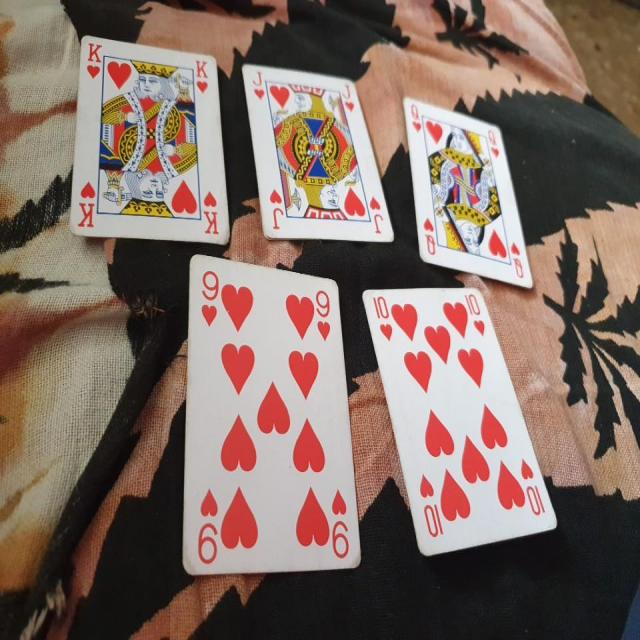10 Hearts: (358, 280, 558, 554)
9 Hearts: (176, 250, 366, 572)
J Hearts: (237, 56, 396, 247)
K Hearts: (60, 36, 232, 248)
Q Hearts: (398, 89, 539, 294)
